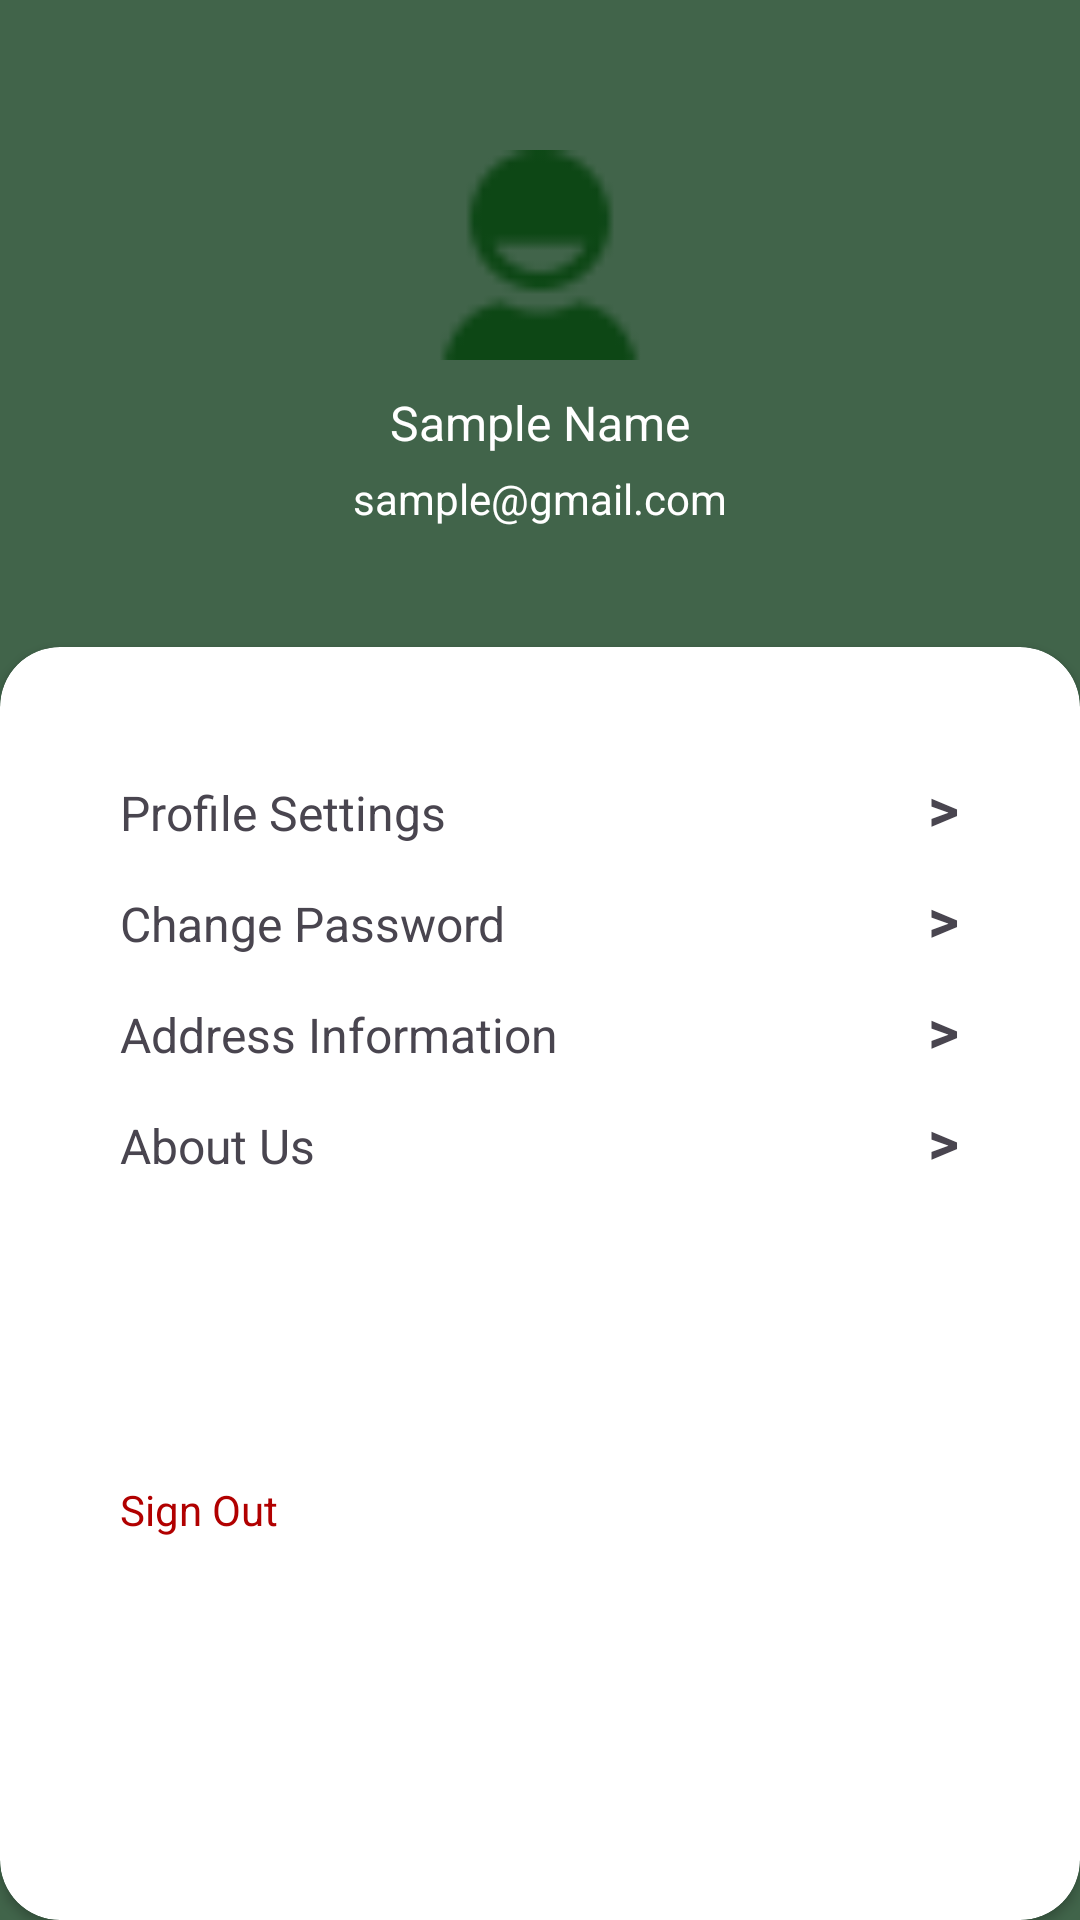

Where icons sit on this 1080px x 1920px app screen, as (x1, y1, x2, y2):
profile: (444, 150, 636, 360)
